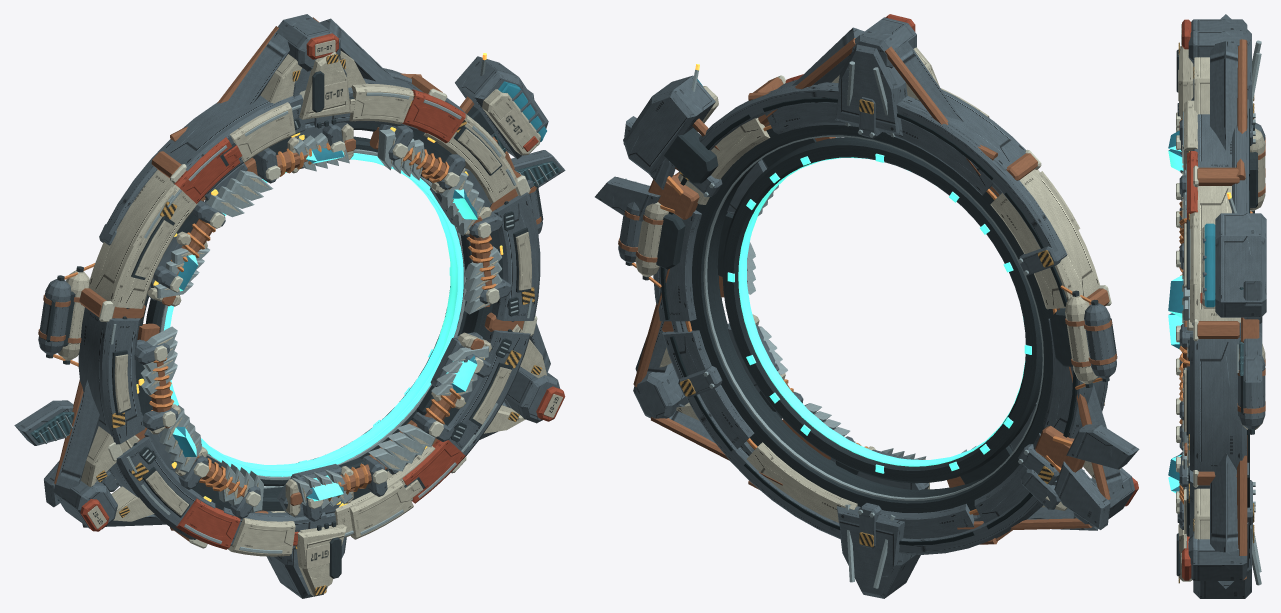
Rendered from gate-kit.glb.
3 views of the same model, side by side, from view 1: azimuth 30°, elevation 25°; view 2: azimuth 150°, elevation 25°; view 3: azimuth 270°, elevation 25° (orthographic). The views are drawn at different scales.
Parts seen in each view (by area): view 1: gate-frame-bastion, gate-frame-keel, gate-emitter-coil, gate-frame-trefoil, gate-emitter-lamella, gate-emitter-prism, gate-service-bridge, gate-service-pods, gate-service-radiator; view 2: gate-frame-keel, gate-frame-bastion, gate-frame-trefoil, gate-emitter-prism, gate-service-radiator, gate-service-pods, gate-service-bridge, gate-emitter-lamella, gate-emitter-coil; view 3: gate-frame-bastion, gate-frame-trefoil, gate-frame-keel, gate-service-bridge, gate-service-pods, gate-emitter-coil, gate-service-radiator, gate-emitter-prism, gate-emitter-lamella.
Part boxes in pixels (x1=…): gate-frame-bastion: x1=78, y1=74, x2=540, y2=549; gate-frame-keel: x1=99, y1=51, x2=505, y2=598; gate-emitter-coil: x1=134, y1=122, x2=511, y2=521; gate-frame-trefoil: x1=53, y1=14, x2=565, y2=531; gate-emitter-lamella: x1=137, y1=124, x2=502, y2=512; gate-emitter-prism: x1=144, y1=122, x2=492, y2=517; gate-service-bridge: x1=101, y1=53, x2=548, y2=491; gate-service-pods: x1=38, y1=180, x2=543, y2=366; gate-service-radiator: x1=14, y1=89, x2=565, y2=507; gate-frame-keel: x1=675, y1=44, x2=1080, y2=598; gate-frame-bastion: x1=653, y1=75, x2=1111, y2=546; gate-frame-trefoil: x1=633, y1=14, x2=1138, y2=547; gate-emitter-prism: x1=723, y1=137, x2=1042, y2=490; gate-service-radiator: x1=595, y1=116, x2=1139, y2=529; gate-service-pods: x1=618, y1=202, x2=1117, y2=389; gate-service-bridge: x1=623, y1=64, x2=1067, y2=510; gate-emitter-lamella: x1=719, y1=137, x2=1041, y2=487; gate-emitter-coil: x1=717, y1=137, x2=1040, y2=484; gate-frame-bastion: x1=1184, y1=97, x2=1255, y2=558; gate-frame-trefoil: x1=1181, y1=14, x2=1255, y2=588; gate-frame-keel: x1=1176, y1=29, x2=1261, y2=598; gate-service-bridge: x1=1200, y1=192, x2=1266, y2=317; gate-service-pods: x1=1237, y1=123, x2=1265, y2=434; gate-emitter-coil: x1=1176, y1=112, x2=1193, y2=529; gate-service-radiator: x1=1236, y1=281, x2=1262, y2=382; gate-emitter-prism: x1=1168, y1=130, x2=1193, y2=493; gate-emitter-lamella: x1=1182, y1=145, x2=1189, y2=490.
Size of the model in its own units: 2.52 by 2.5 by 0.391.
Materials: 1 (1 with a texture image).
